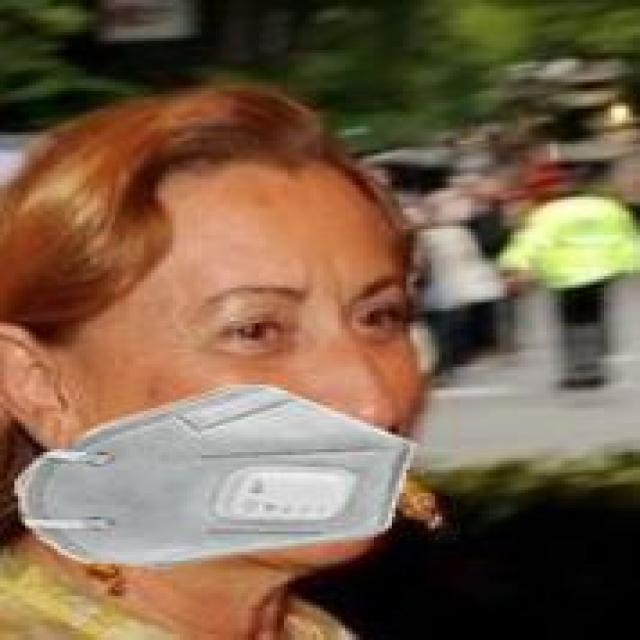mask: (50, 59, 579, 584)
